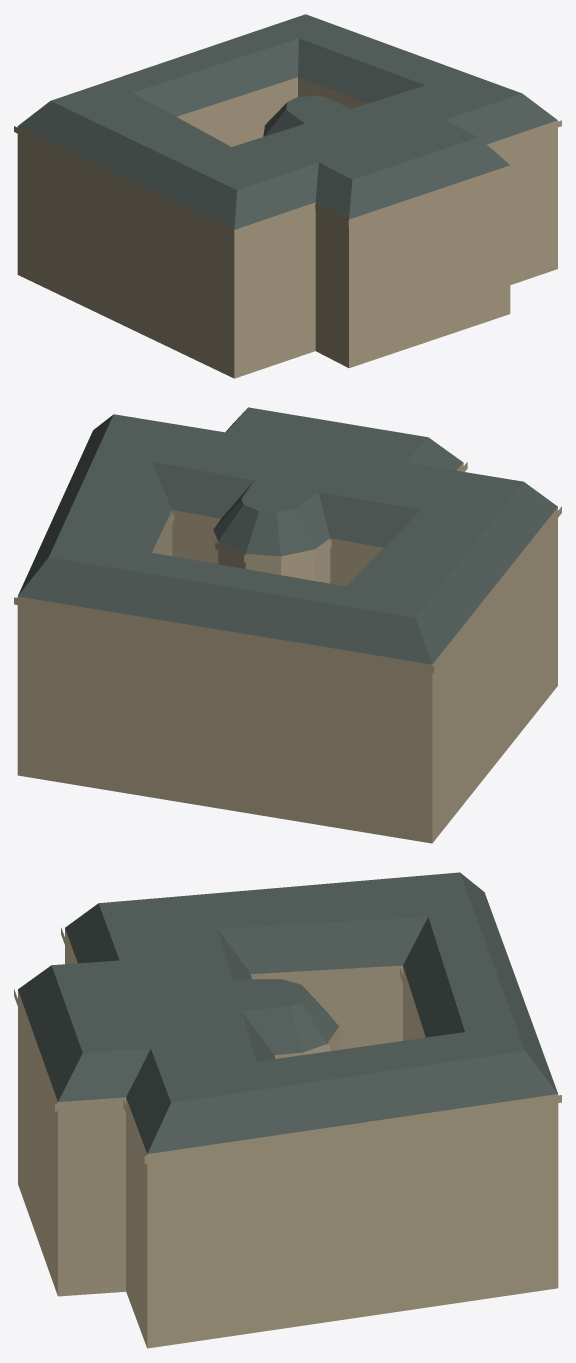
File: academy.glb
The picture shows the model from 3 angles, top to bottom: view 1: azimuth 30°, elevation 25°; view 2: azimuth 150°, elevation 25°; view 3: azimuth 270°, elevation 25°; orthographic projection. The views are drawn at different scales.
Parts seen in each view (by area): view 1: academy; view 2: academy; view 3: academy.
Boxes of the visible parts, x1,y1,x2,y2 form: academy: (14, 14, 561, 378); academy: (14, 407, 561, 843); academy: (14, 872, 561, 1348).
Size of the model in its own units: 74.21 by 29.82 by 64.68.
